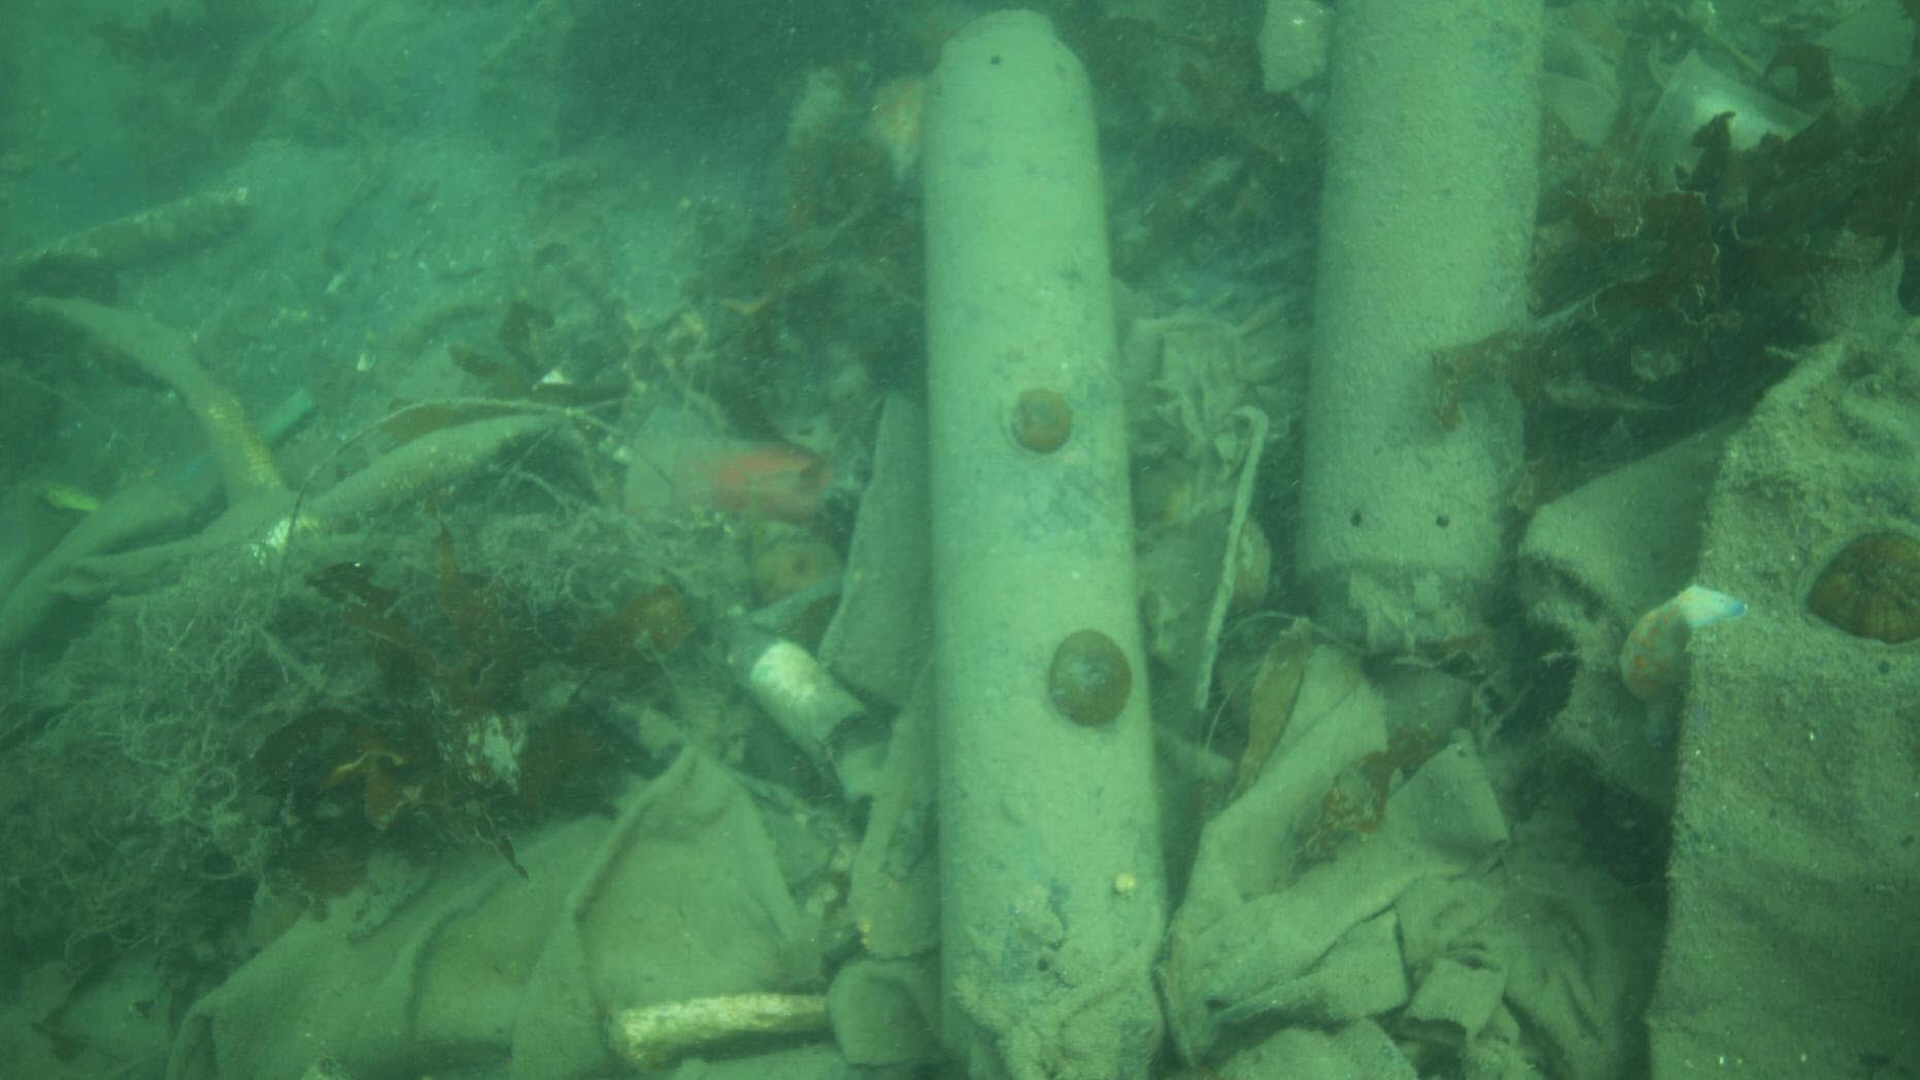eel fish trap: (916, 0, 1168, 1080), (1294, 0, 1547, 667)
